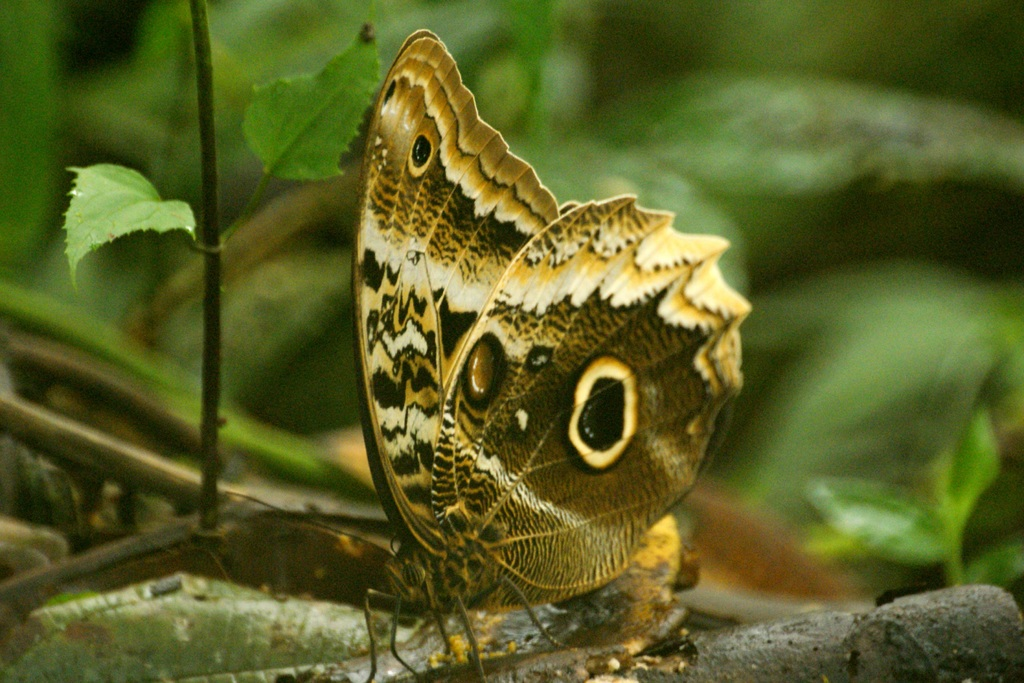Butterfly: (321, 32, 756, 652)
